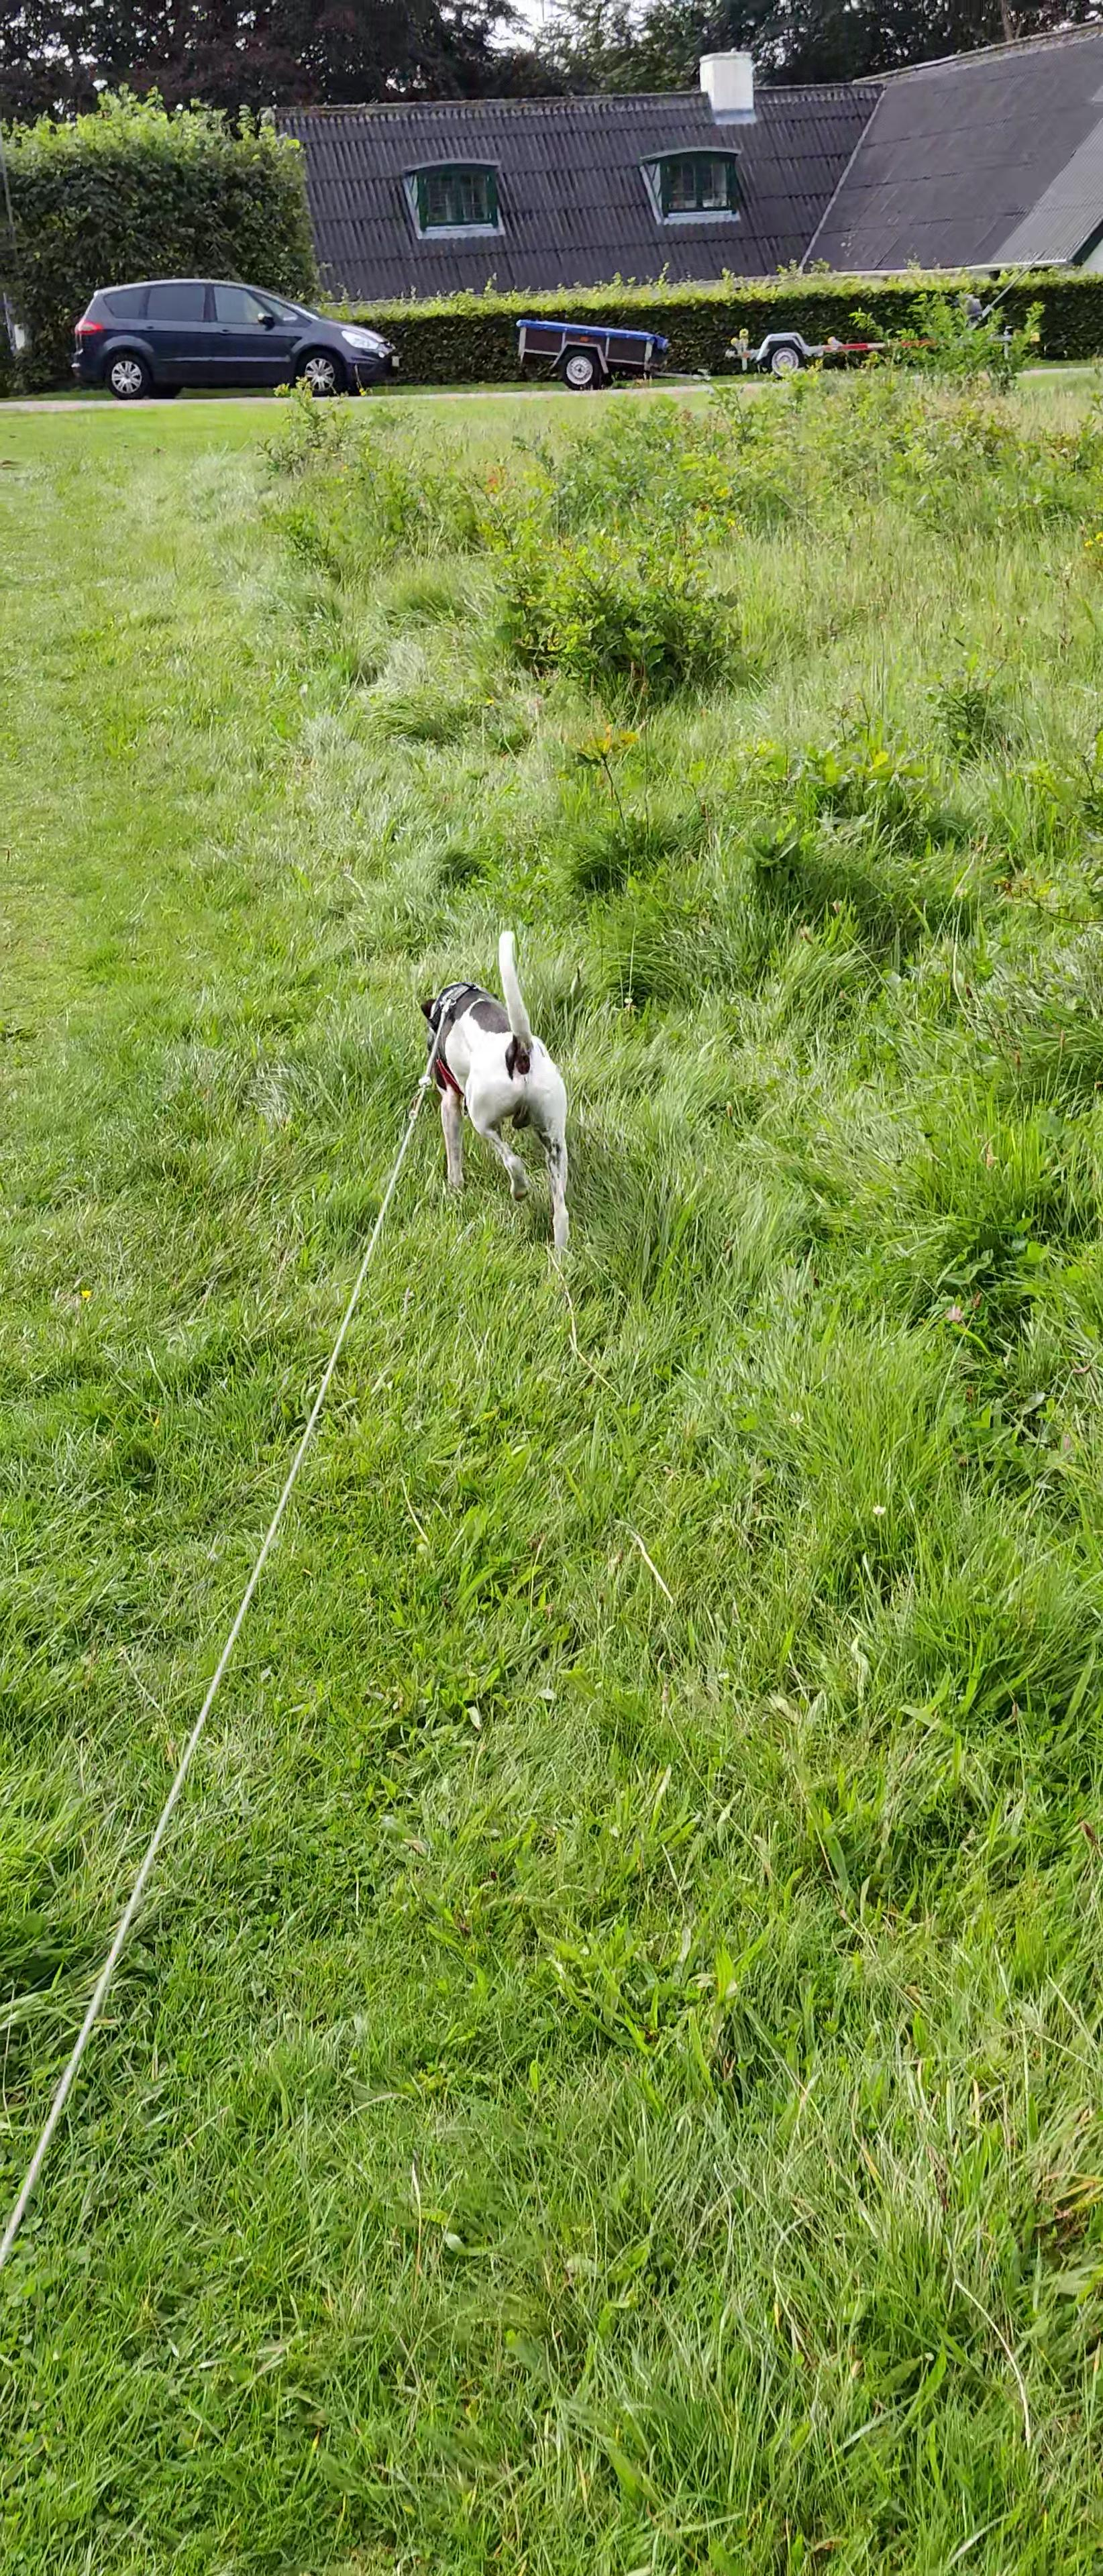Dog: (408, 918, 588, 1257)
